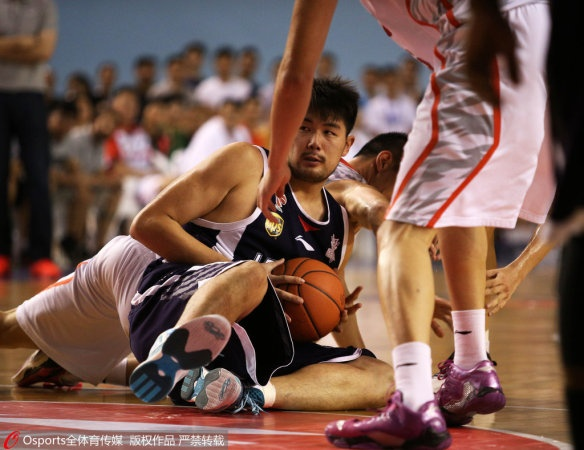falling: (11, 86, 382, 410)
